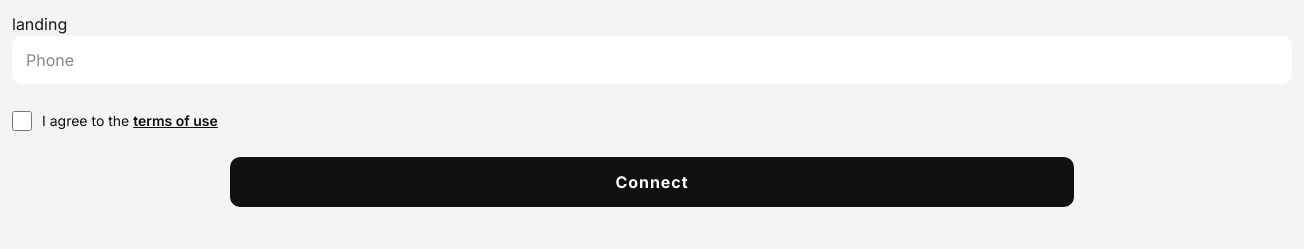
Scenario: Form edit-mode Connect › flags only the terms when the fields pass
Type "+61 400 000 000" into the field labelled "Phone".
click(652, 60); type("+61 400 000 000")  # box [12,36,1292,84]
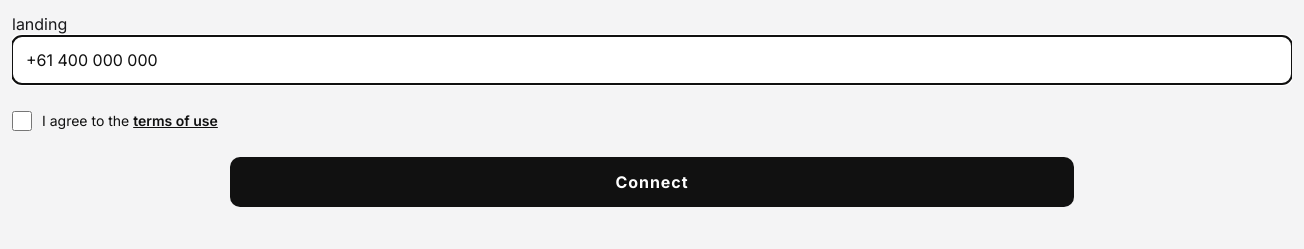
Click the button "Connect".
click(652, 182)  # box [230,157,1074,207]
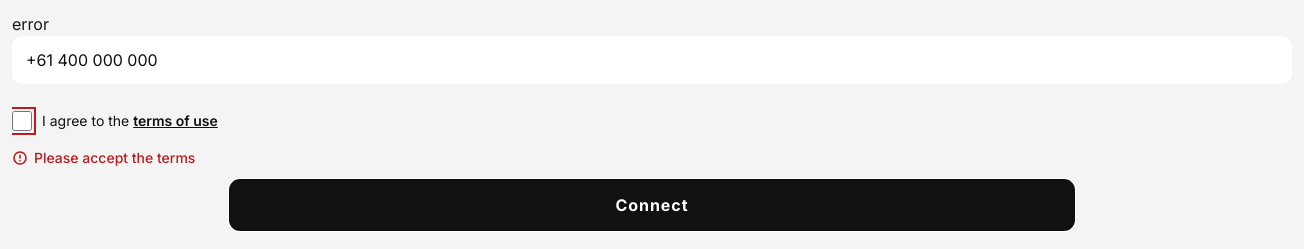
Result: the text with test id "screen" reads "error" at [12,14,49,34]
Result: the message reads "Please accept the terms" at [34,149,195,166]
